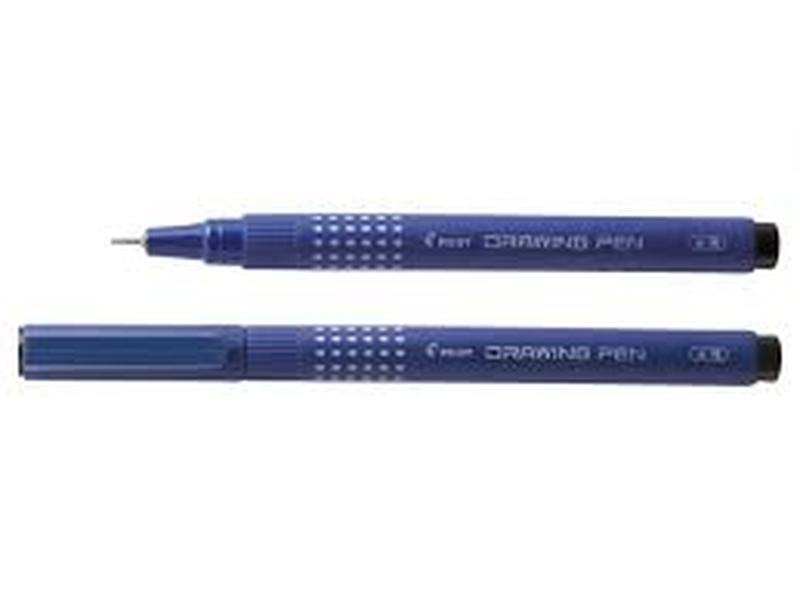qillqana: (5, 304, 800, 432), (68, 177, 789, 282)
